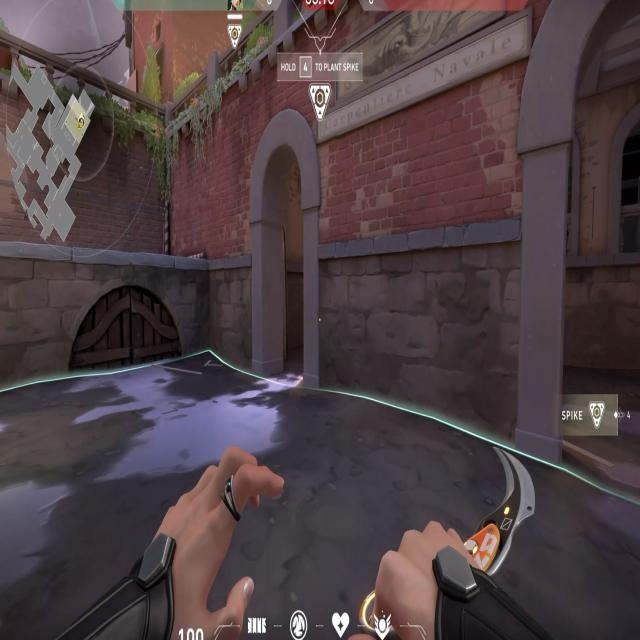B_Boathouse: (514, 0, 640, 500), (247, 104, 327, 391)
